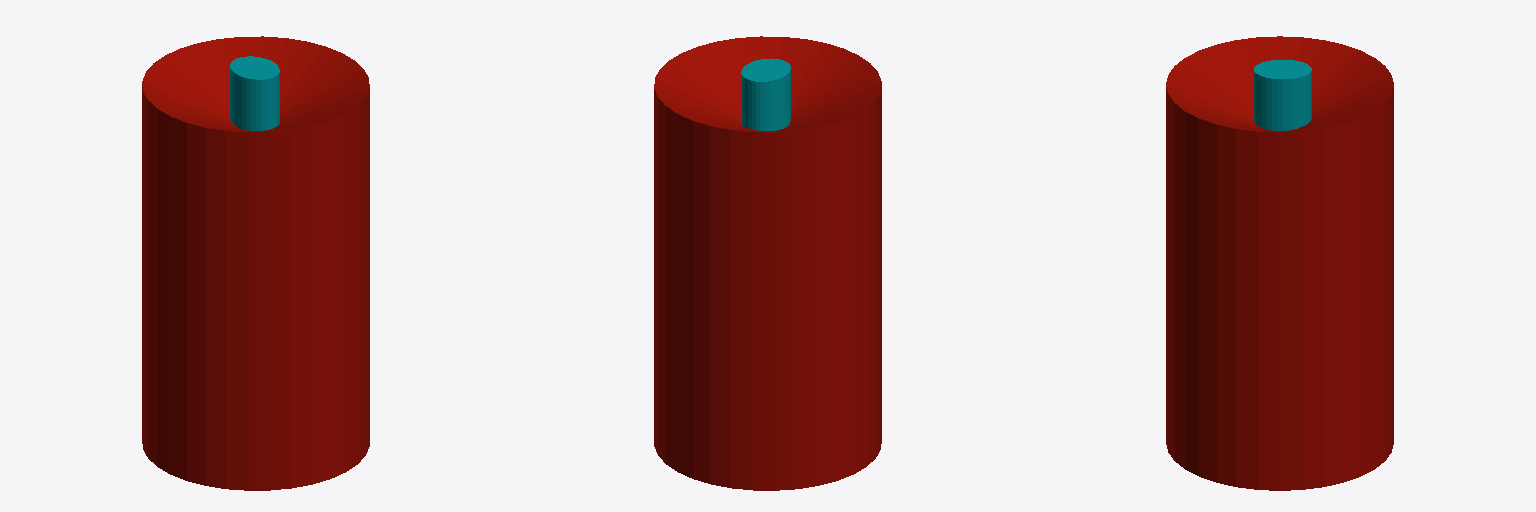
File: Battery.obj
The picture shows the model from 3 angles: view 1: azimuth 30°, elevation 25°; view 2: azimuth 150°, elevation 25°; view 3: azimuth 270°, elevation 25°; orthographic projection.
Parts seen in each view (by area): view 1: Cylinder, Cylinder.001; view 2: Cylinder, Cylinder.001; view 3: Cylinder, Cylinder.001.
Boxes of the visible parts, <box> form: Cylinder: <box>142,36,369,490</box>; Cylinder.001: <box>230,56,279,130</box>; Cylinder: <box>654,36,881,490</box>; Cylinder.001: <box>741,58,790,130</box>; Cylinder: <box>1166,36,1393,490</box>; Cylinder.001: <box>1254,60,1311,130</box>.
Bounding box in the file's own units: 0.5716 × 1.03 × 0.5716.